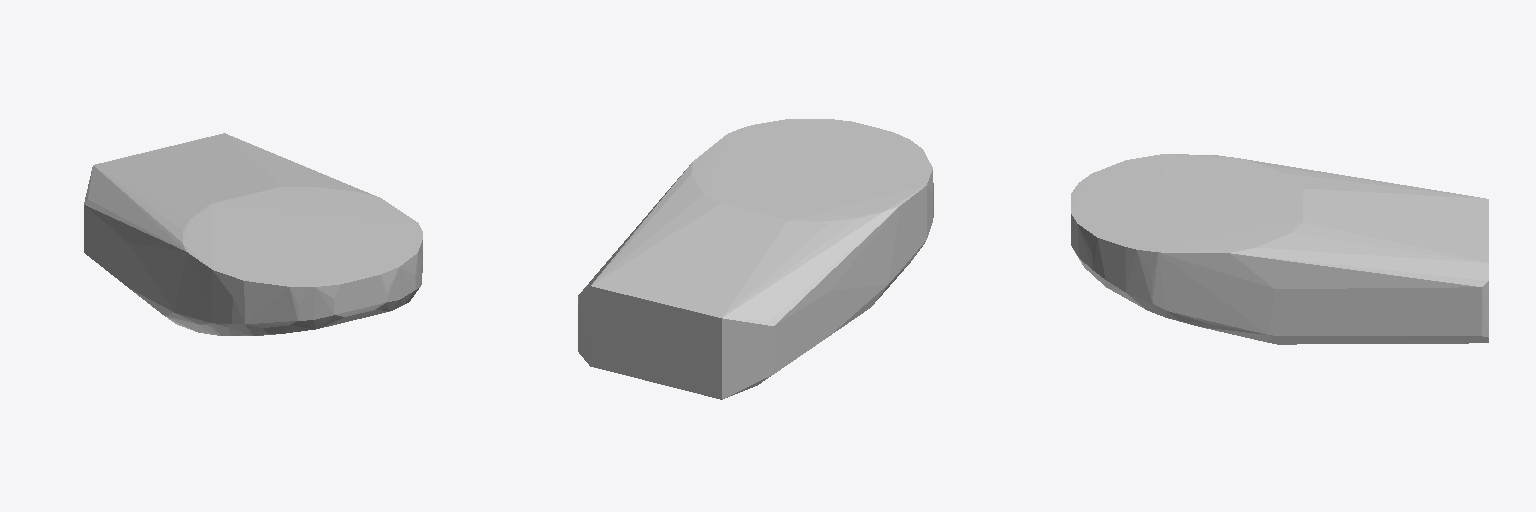
File: solo_lower_leg_v2_right_side_collision_4.obj
The picture shows the model from 3 angles: view 1: azimuth 30°, elevation 25°; view 2: azimuth 150°, elevation 25°; view 3: azimuth 270°, elevation 25°; orthographic projection.
Bounding box in the file's own units: 0.0261 × 0.013 × 0.0465.